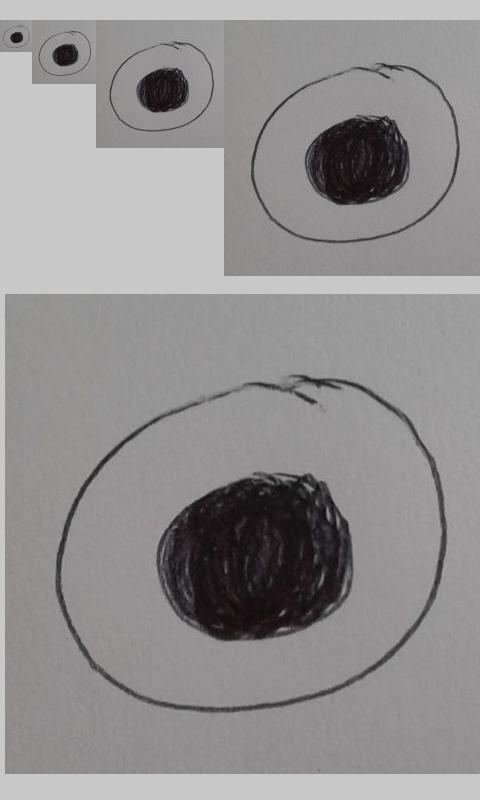radio_button: (52, 369, 451, 717), (250, 61, 461, 244), (108, 41, 215, 133), (38, 30, 92, 77), (2, 24, 30, 49)
